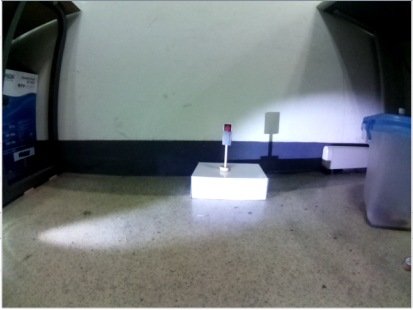Red: (218, 122, 234, 148)
